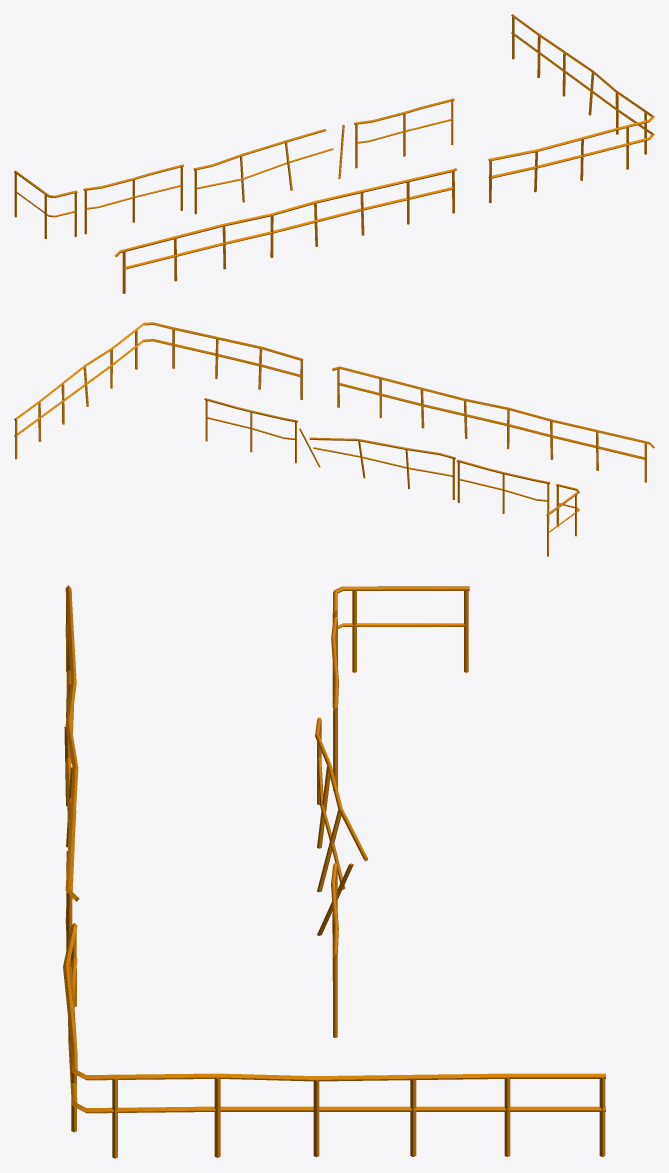
The model's file is Railings.FBX.
3 views of the same model, one above another, from view 1: azimuth 30°, elevation 25°; view 2: azimuth 150°, elevation 25°; view 3: azimuth 270°, elevation 25° (orthographic). The views are drawn at different scales.
Visible parts, largest first — view 1: relsa_bridge_15, relsa_bridge_14, perila_1_111, perila_1_108, perila_1_99, perila_1_100; view 2: relsa_bridge_14, relsa_bridge_15, perila_1_111, perila_1_99, perila_1_108, perila_1_100; view 3: relsa_bridge_14, relsa_bridge_15, perila_1_111, perila_1_100, perila_1_108, perila_1_99.
Part boxes in pixels (x1,y1,x2,y2): relsa_bridge_15: [114, 168, 457, 293]; relsa_bridge_14: [488, 14, 654, 202]; perila_1_111: [193, 124, 344, 214]; perila_1_108: [354, 98, 454, 168]; perila_1_99: [83, 164, 183, 234]; perila_1_100: [14, 170, 77, 239]; relsa_bridge_14: [14, 322, 303, 459]; relsa_bridge_15: [332, 366, 654, 482]; perila_1_111: [299, 428, 455, 499]; perila_1_99: [456, 459, 550, 524]; perila_1_108: [204, 398, 297, 463]; perila_1_100: [546, 484, 579, 556]; relsa_bridge_14: [63, 923, 605, 1158]; relsa_bridge_15: [64, 585, 79, 967]; perila_1_111: [315, 717, 368, 935]; perila_1_100: [332, 586, 469, 672]; perila_1_108: [331, 863, 338, 1037]; perila_1_99: [331, 617, 338, 790].
Bounding box in the file's own units: 11.99 × 1.01 × 5.54.
